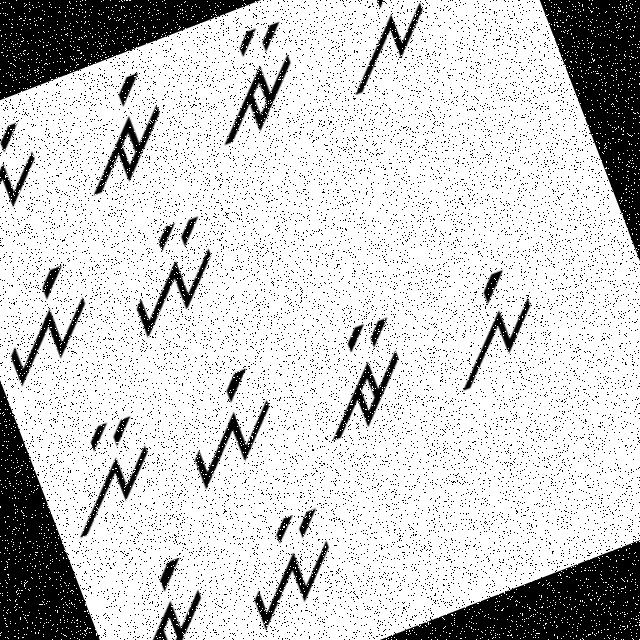lan: (42, 399, 175, 539), (0, 109, 70, 252)
lang: (414, 248, 563, 398), (314, 0, 454, 107)
ran: (282, 301, 433, 453), (185, 11, 318, 150)
rang: (50, 59, 191, 200), (89, 534, 234, 639)
yan: (207, 493, 364, 639), (96, 196, 246, 344)
yang: (157, 353, 296, 494), (0, 253, 113, 393)
